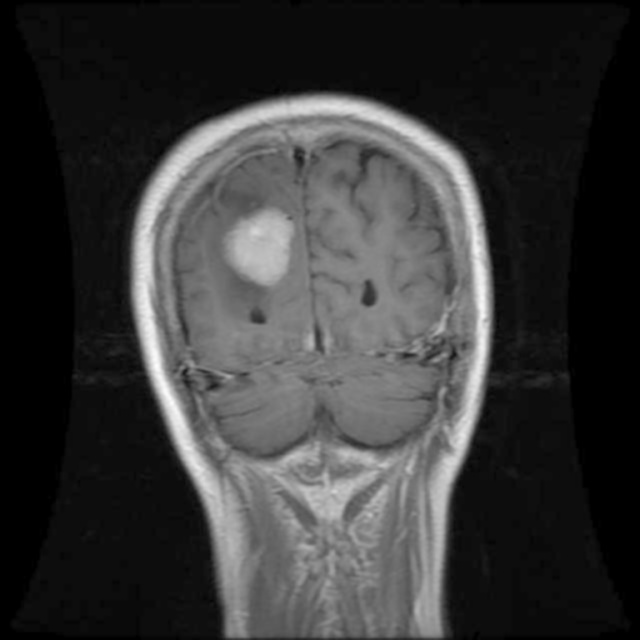meningioma tumor: (200, 208, 304, 294)
